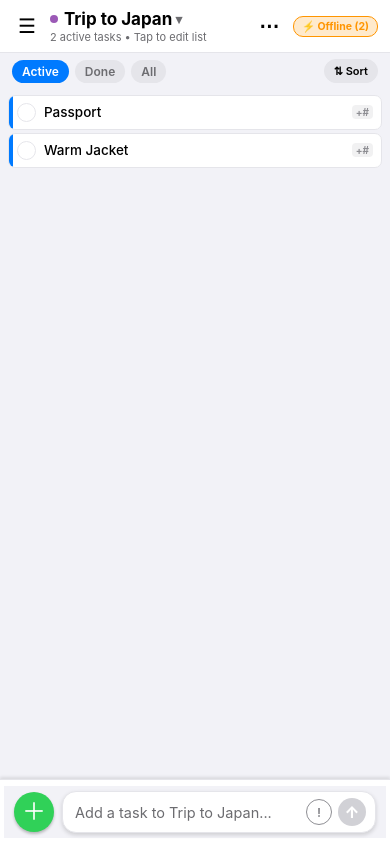
Test: ProjectTasksScreen › On-Device AI Sort (AICore) › exposes aiSmart sort option on any project when AICore is supported
Click the element with test id "sort-trigger-btn": click(351, 71) [324,59,378,83]
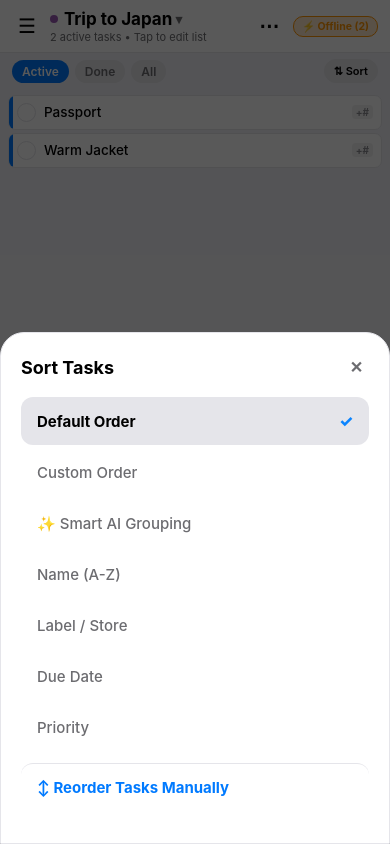
Check: the element with test id "sort-option-aiSmart" is shown
// Select aiSmart sort
Click the element with test id "sort-option-aiSmart": click(114, 524) [37,514,191,533]
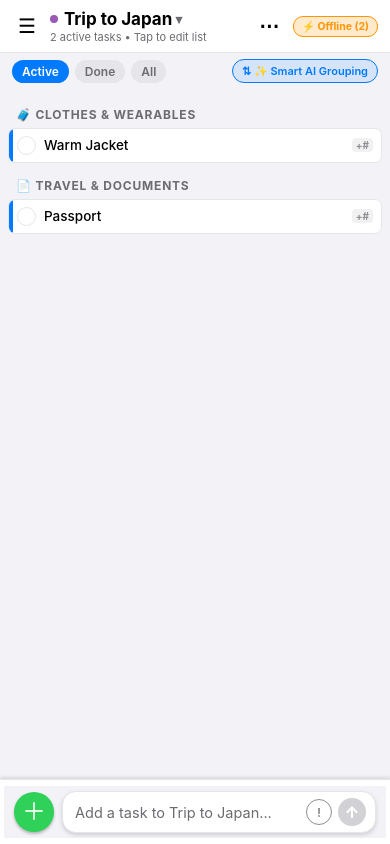
Check: the element with test id "category-header-📄 Travel & Documents" is shown, box [16,178,190,193]
Check: the element with test id "category-header-🧳 Clothes & Wearables" is shown, box [16,107,196,122]
